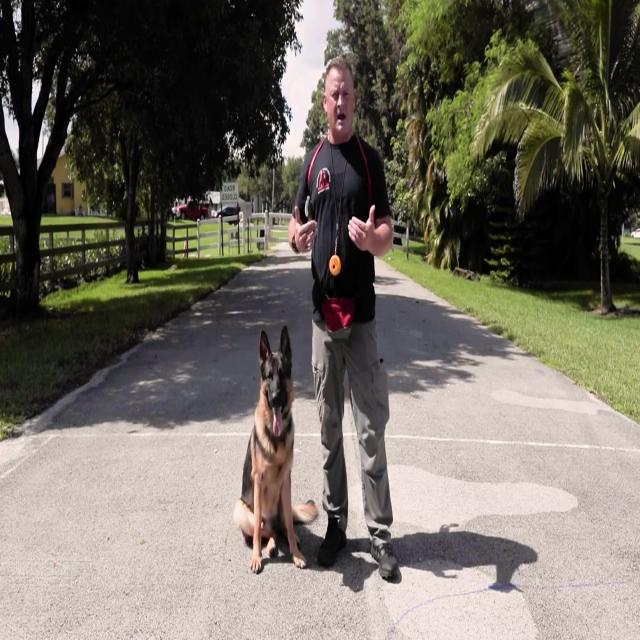Unleashed_Dog: (232, 314, 372, 577)
